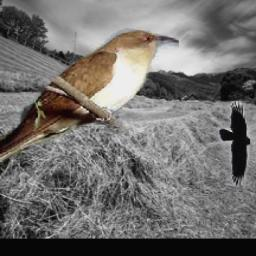Crow: (219, 101, 251, 186)
Cuckoo: (0, 28, 179, 176)
